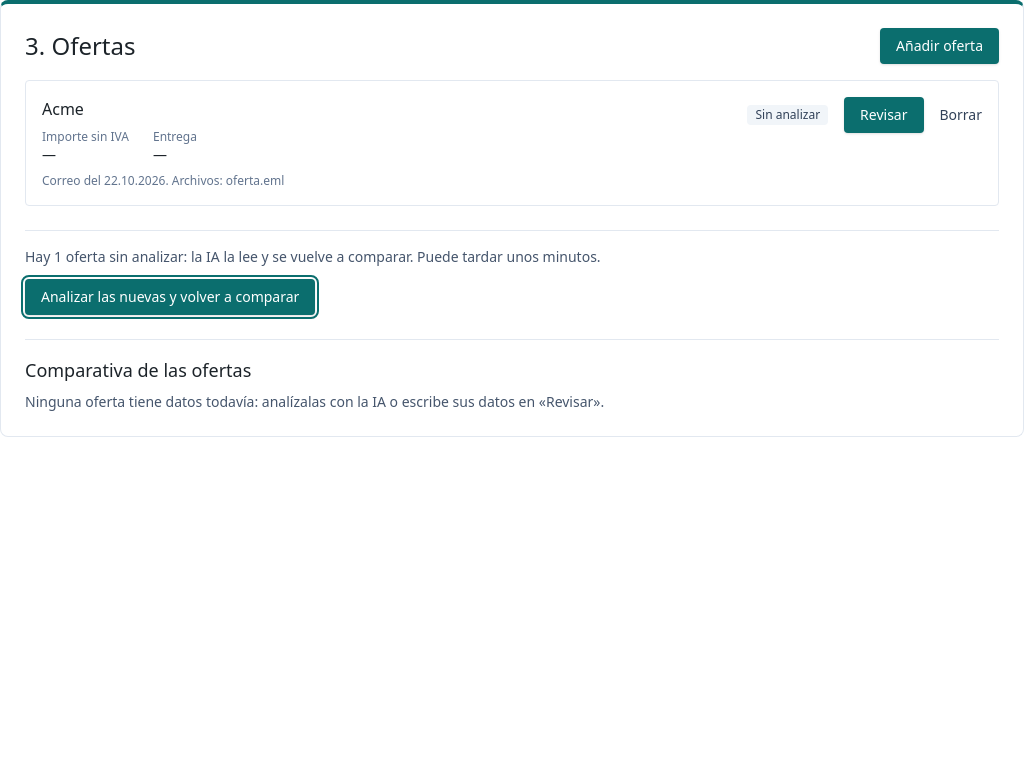
Test: SeccionOfertas › al terminar «Analizar las nuevas…», el foco va a la comparativa y se anuncia
Click the button "Analizar las nuevas y volver a comparar" at (170, 297), box top-left (25, 279), bottom-right (315, 315)
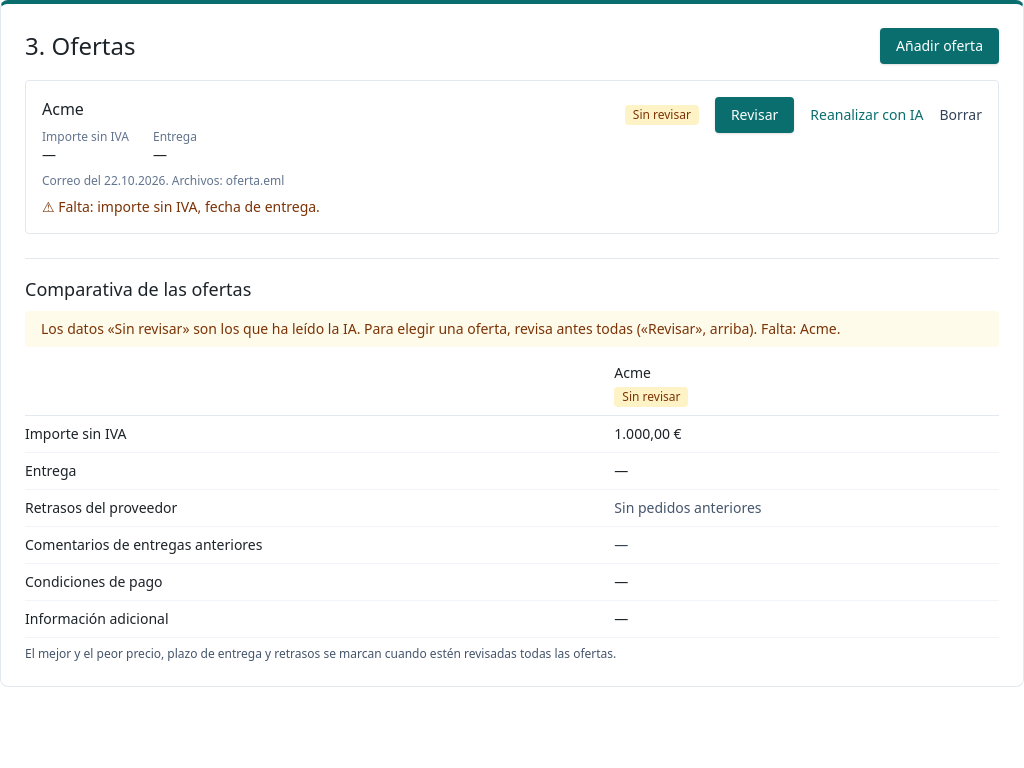
Check: the button "Analizar las nuevas" is gone
